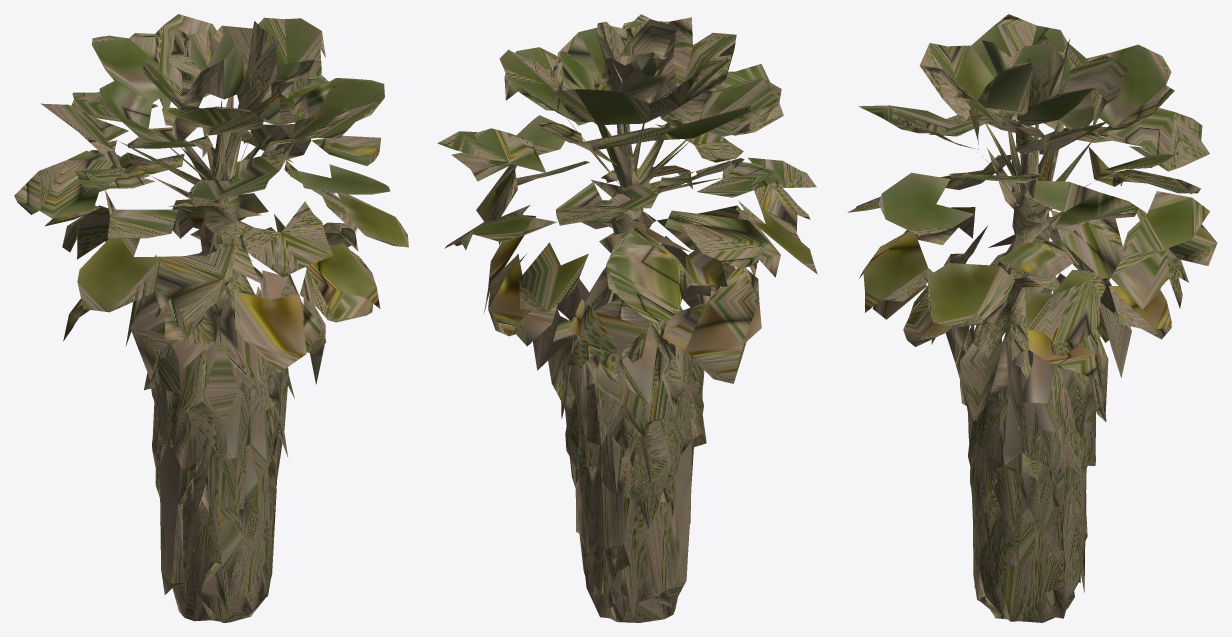
File: desert-plants-california-fan-palm.glb
3 views of the same model, side by side, from view 1: azimuth 30°, elevation 25°; view 2: azimuth 150°, elevation 25°; view 3: azimuth 270°, elevation 25° (orthographic).
Visible parts, largest first — view 1: world; view 2: world; view 3: world.
Part boxes in pixels (x1,y1,x2,y2): world: (14,14,408,622); world: (437,14,817,622); world: (847,14,1217,622).
Size of the model in its own units: 0.5868 by 0.9752 by 0.5754.
1 material, 1 textured.
